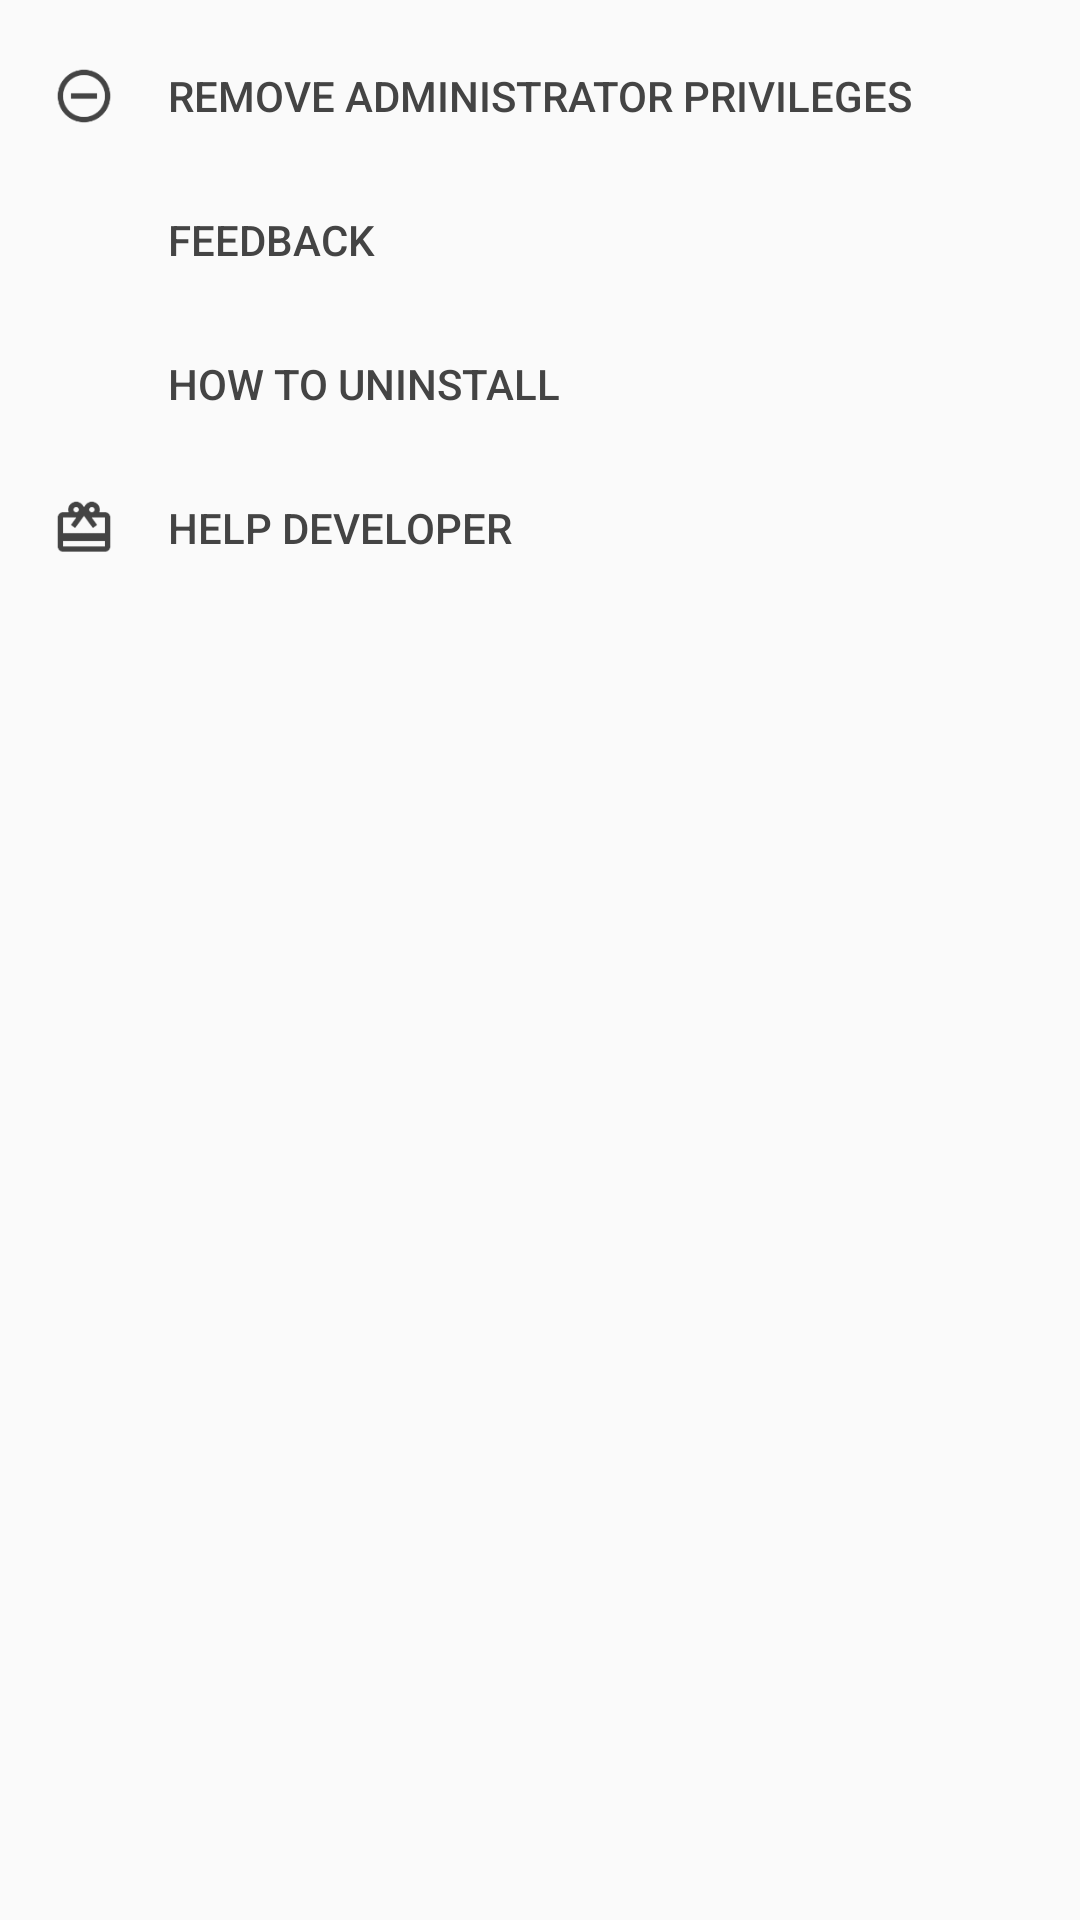

Where icons sit on this 1080 x 1920 app screen, as detection(x1, y1, x2, y2):
remove privilege: detection(57, 69, 111, 123)
wallet giftcard: detection(57, 501, 111, 552)
